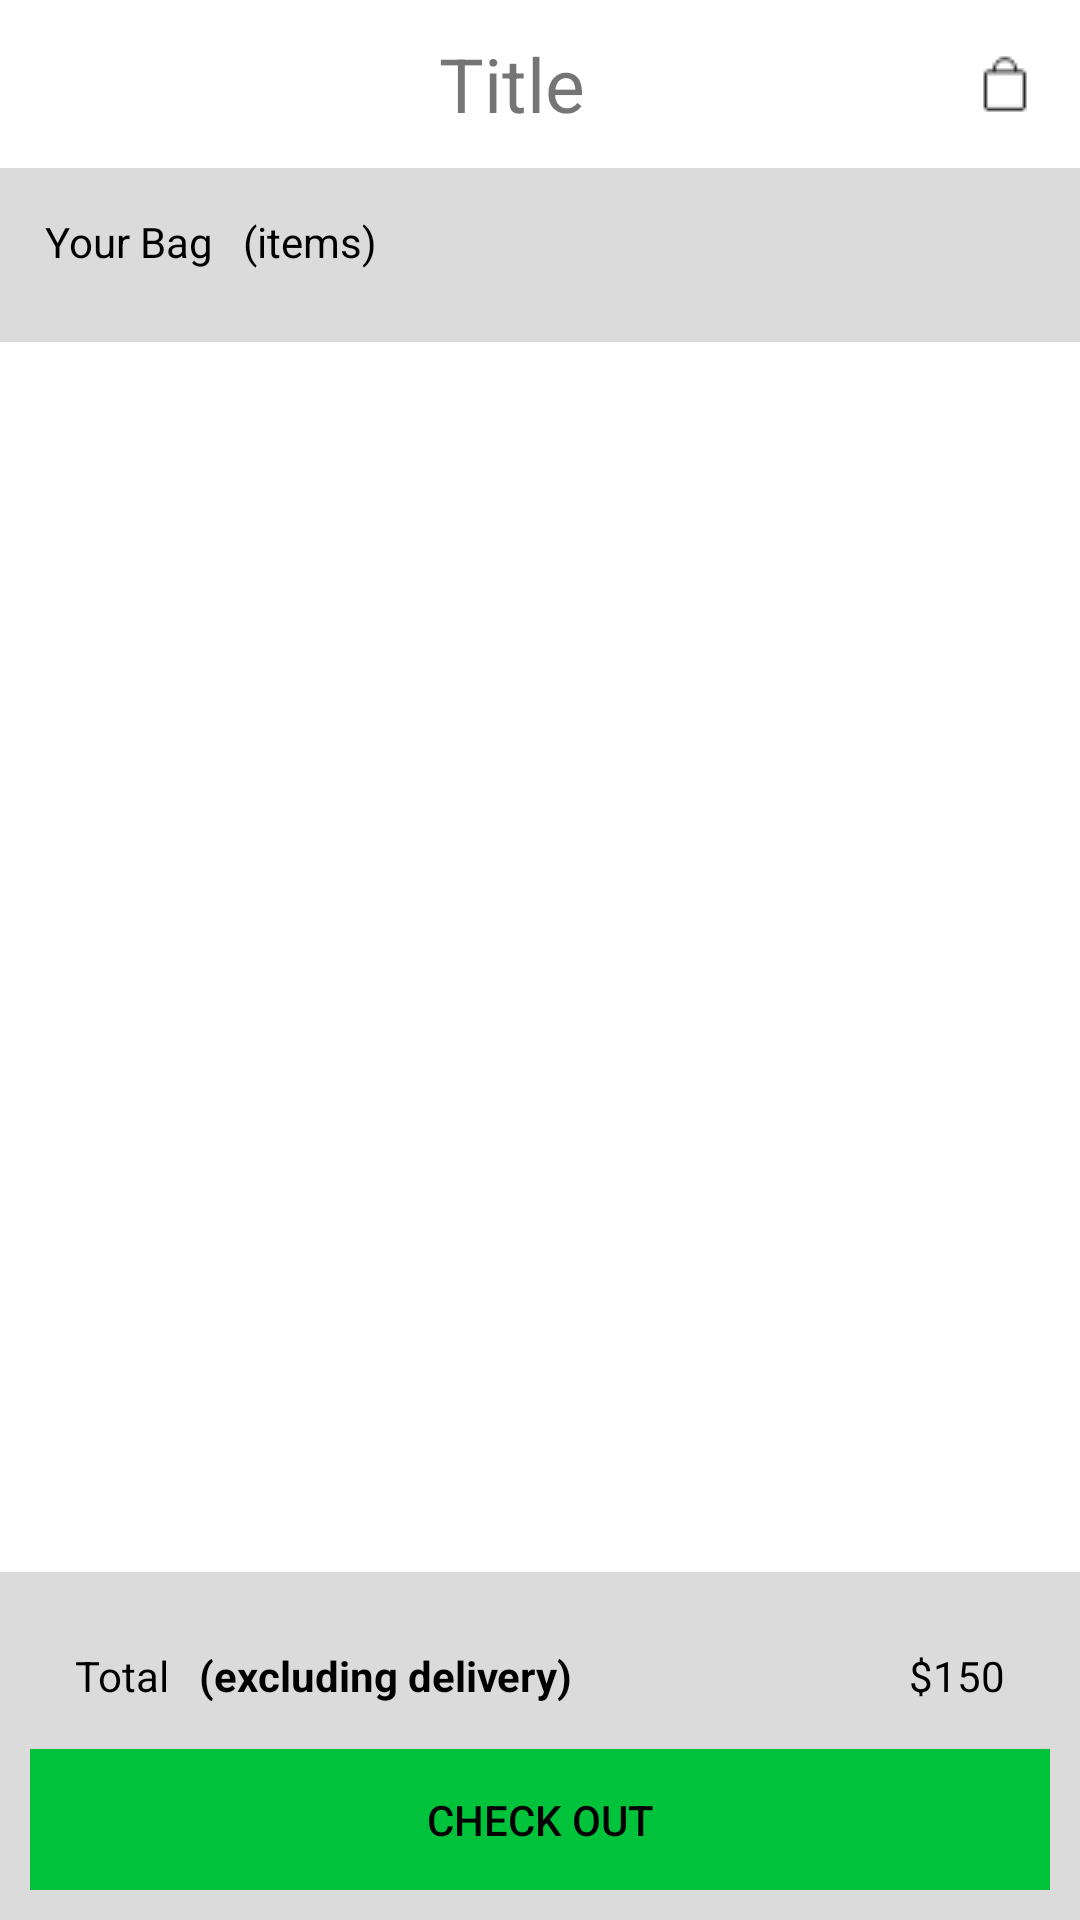

Locate icon controls on the screen. Image size 1080x1920, boxes as detection(x1, y1, x2, y2).
bag: detection(983, 56, 1027, 112)
